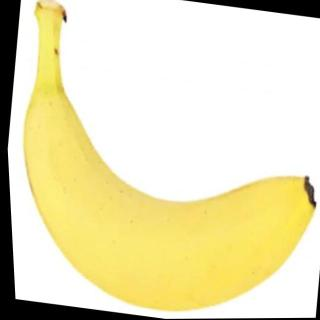banana: (3, 88, 320, 320)
